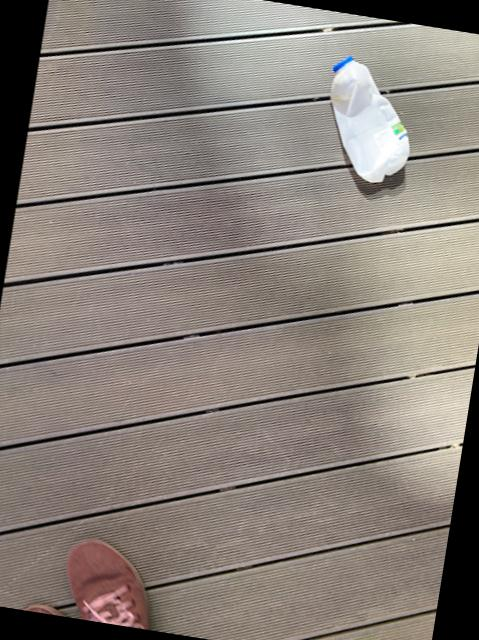plastic: (329, 54, 408, 180)
